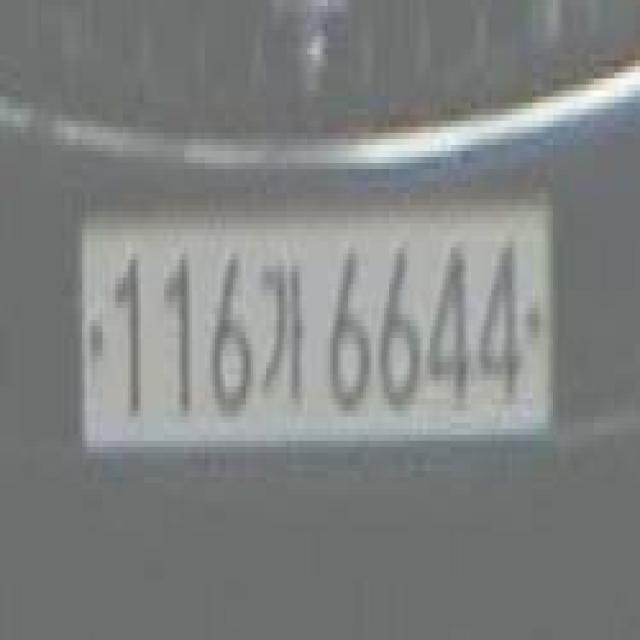illegal_plate: (78, 174, 560, 482)
